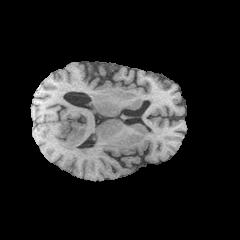glioma: (48, 128, 88, 156)
